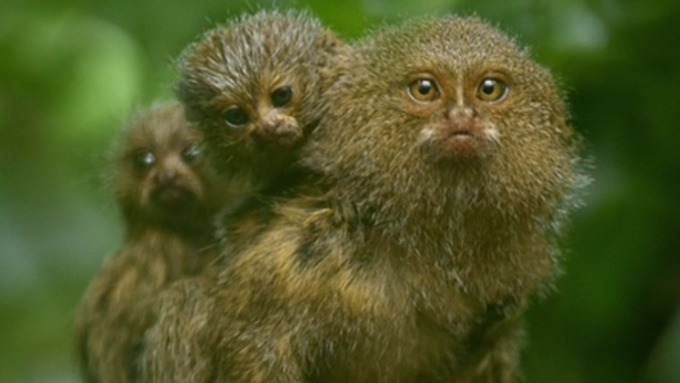PygmyMarmoset: (255, 53, 587, 368), (104, 113, 237, 281), (184, 26, 328, 161)
